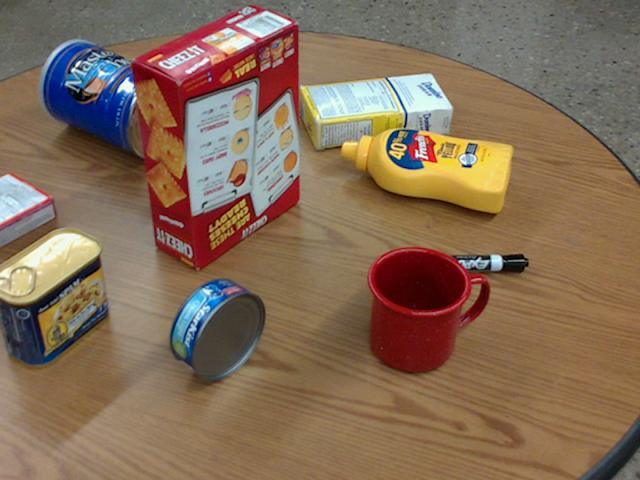cracker_box: (130, 7, 298, 269)
gelatin_box: (0, 172, 57, 247)
large_marker: (410, 254, 528, 272)
master_chef_can: (37, 39, 186, 158)
mug: (367, 246, 487, 373)
mustard_bottle: (340, 129, 512, 211)
potted_meat_can: (0, 228, 107, 369)
sugar_box: (299, 71, 454, 149)
tomato_soup_can: (206, 16, 261, 113)
tuna_fish_can: (169, 278, 266, 381)
